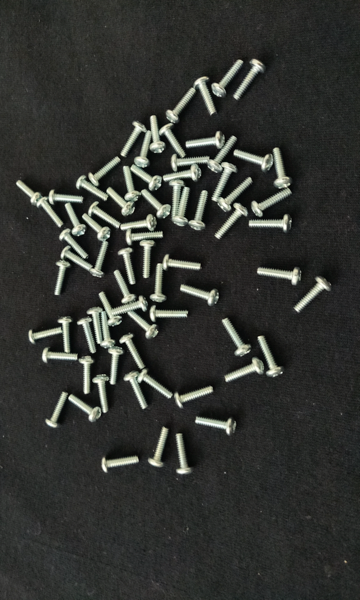shortscrew: (294, 275, 333, 313), (234, 58, 268, 101), (215, 203, 251, 240), (218, 177, 254, 212), (212, 59, 244, 98), (252, 188, 293, 218), (223, 318, 253, 358), (258, 335, 285, 378), (138, 369, 175, 400), (208, 135, 238, 173), (166, 87, 196, 124), (225, 357, 266, 384), (159, 122, 188, 159), (174, 385, 215, 411), (87, 156, 121, 187), (120, 120, 147, 158), (193, 76, 217, 117), (160, 124, 188, 159), (213, 163, 238, 202), (120, 333, 147, 369), (149, 427, 172, 469), (140, 189, 171, 220), (125, 371, 149, 411), (68, 394, 101, 423), (87, 202, 121, 230), (59, 245, 94, 272), (175, 434, 197, 476), (127, 311, 160, 339), (181, 284, 221, 307), (131, 165, 165, 192), (107, 187, 137, 217), (98, 292, 123, 328), (37, 197, 65, 229), (234, 149, 274, 171), (59, 229, 88, 259), (190, 190, 211, 231), (258, 267, 303, 286), (249, 214, 294, 233), (45, 392, 68, 429), (76, 175, 108, 201), (173, 187, 193, 228), (113, 270, 136, 305), (163, 164, 203, 184), (196, 417, 238, 436), (83, 213, 111, 241), (187, 132, 226, 152), (274, 148, 293, 188), (134, 130, 153, 168), (113, 296, 149, 316), (102, 455, 141, 473), (78, 356, 96, 395), (150, 264, 168, 303), (78, 316, 96, 355), (169, 180, 185, 223), (28, 326, 64, 345), (121, 214, 159, 232), (118, 247, 136, 285), (141, 239, 158, 279), (162, 254, 202, 271), (16, 180, 42, 206), (149, 306, 191, 322), (91, 241, 109, 278), (123, 166, 141, 203), (171, 154, 210, 171), (87, 306, 104, 345), (93, 375, 109, 415), (108, 346, 124, 386), (54, 260, 71, 297), (127, 228, 164, 245), (41, 348, 79, 364), (58, 316, 74, 354), (150, 115, 165, 155), (100, 311, 115, 349)
